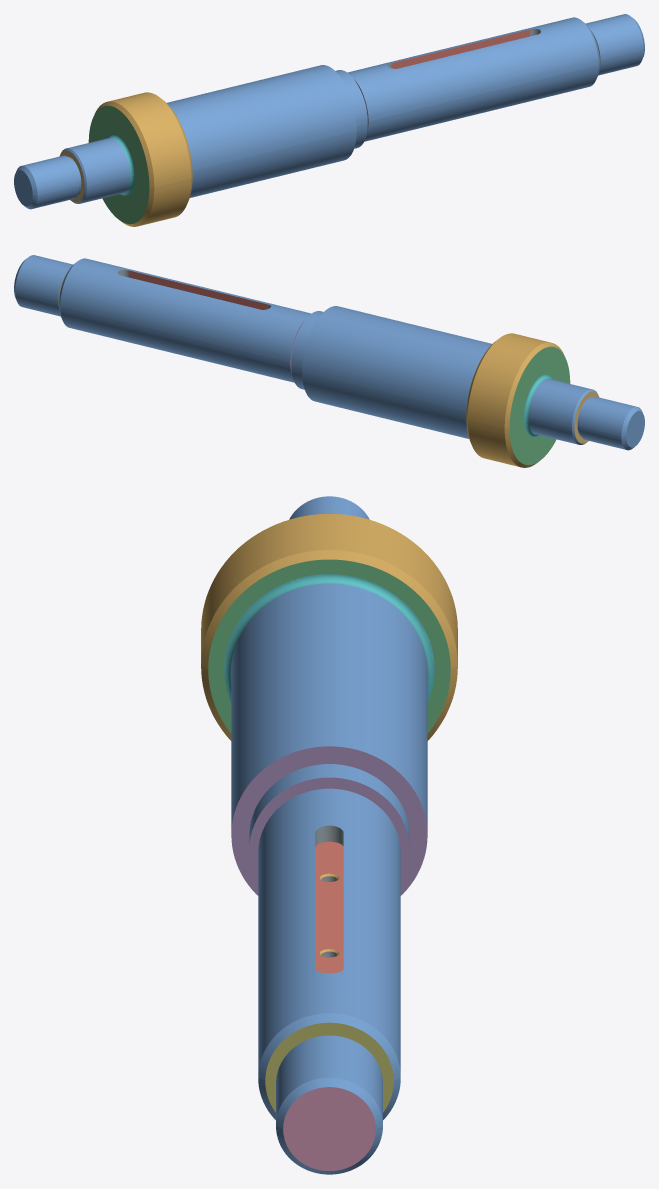
3 views of the same model, one above another, from view 1: azimuth 30°, elevation 25°; view 2: azimuth 150°, elevation 25°; view 3: azimuth 270°, elevation 25° (orthographic). The views are drawn at different scales.
Parts seen in each view (by area): view 1: Shaft; view 2: Shaft; view 3: Shaft.
Boxes of the visible parts, <box> form: Shaft: <box>14,14,644,226</box>; Shaft: <box>14,255,644,467</box>; Shaft: <box>201,496,457,1174</box>.
Size of the model in its own units: 0.395 by 0.0719 by 0.072.
